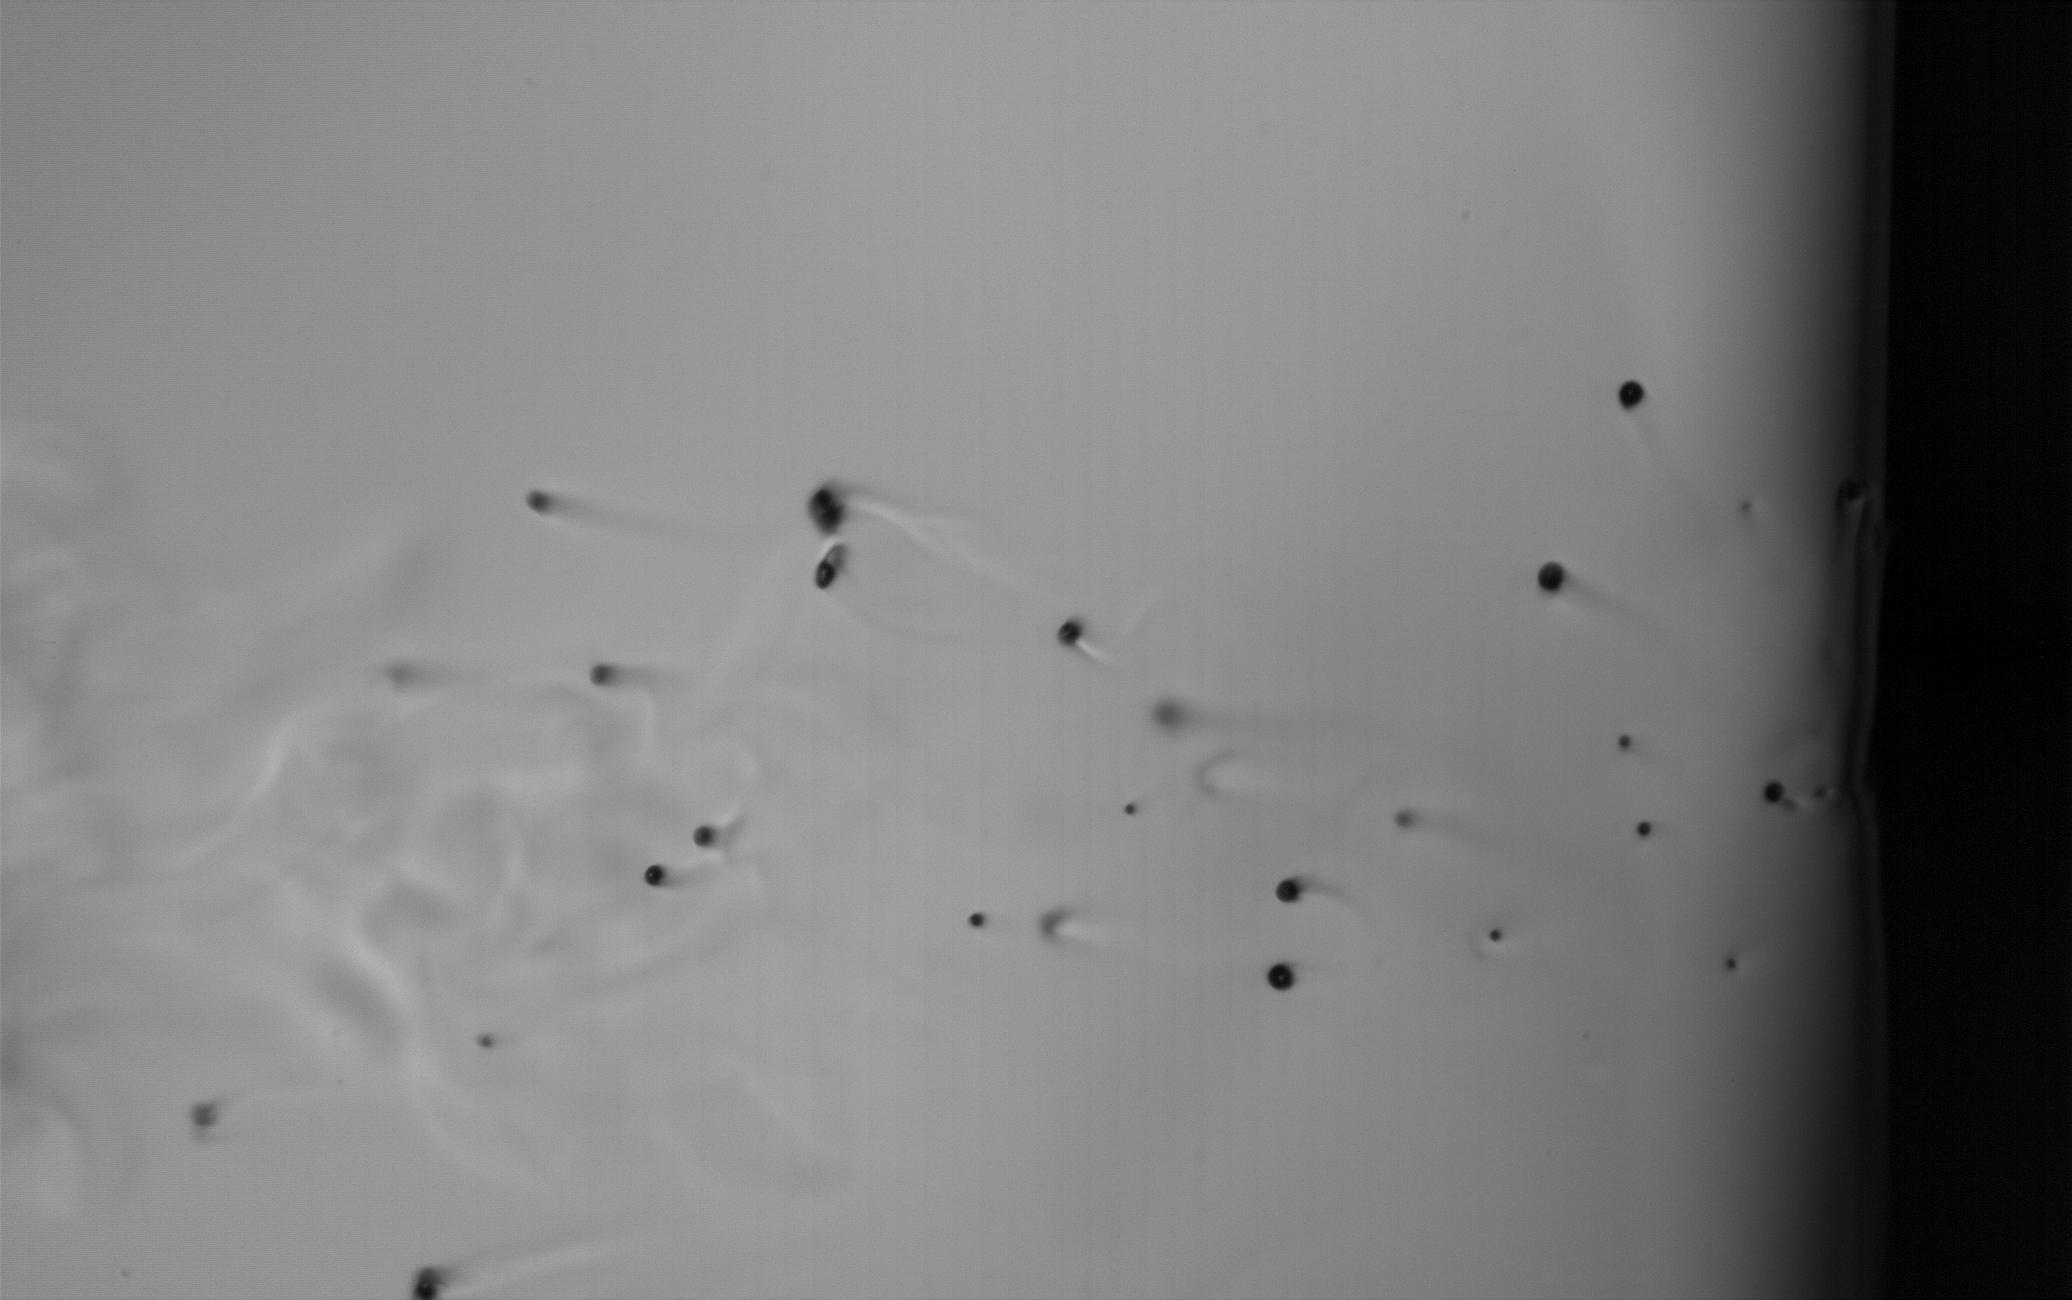Blurry: (811, 544, 849, 589), (1035, 908, 1067, 950), (189, 1098, 219, 1132), (412, 1269, 443, 1300)
ClassicalEvaporation: (1758, 771, 1792, 807), (1153, 693, 1187, 729), (1532, 562, 1566, 596), (1054, 616, 1088, 650), (1274, 876, 1308, 911), (686, 819, 720, 854), (639, 858, 674, 893), (1264, 960, 1296, 994), (1615, 379, 1648, 413), (522, 490, 551, 520), (1482, 923, 1511, 953), (1630, 818, 1659, 848), (1115, 794, 1144, 824), (1608, 726, 1636, 755), (963, 905, 991, 933), (473, 1029, 502, 1057), (1392, 801, 1419, 831), (585, 662, 612, 690), (1719, 950, 1746, 978)
TransitionalMixing: (805, 476, 847, 541)
